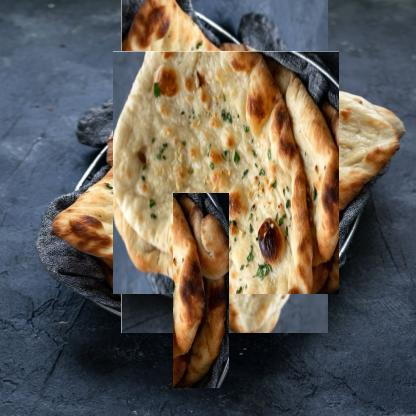naan: (87, 23, 362, 298), (109, 56, 344, 290), (138, 228, 264, 354)
